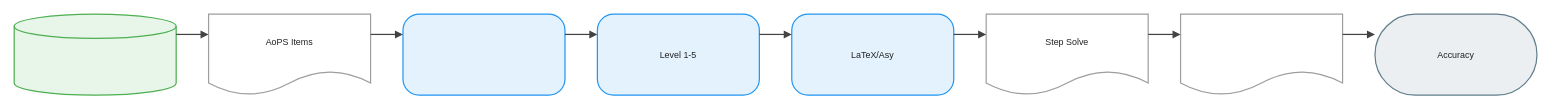
The diagram is 1552 pixels wide and 110 high, and some of its shapes have lost their labels. The centre of each missing label's shape, as x and y in pixels:
"7 Subjects" goes at (x=483, y=54).
"Box Answer" goes at (x=1261, y=54).
"Contest Pool" goes at (x=94, y=54).
